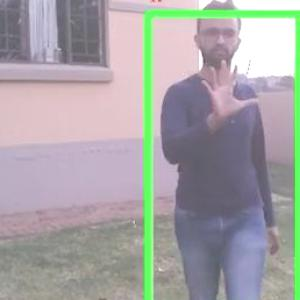follow_hand: (196, 56, 262, 120)
